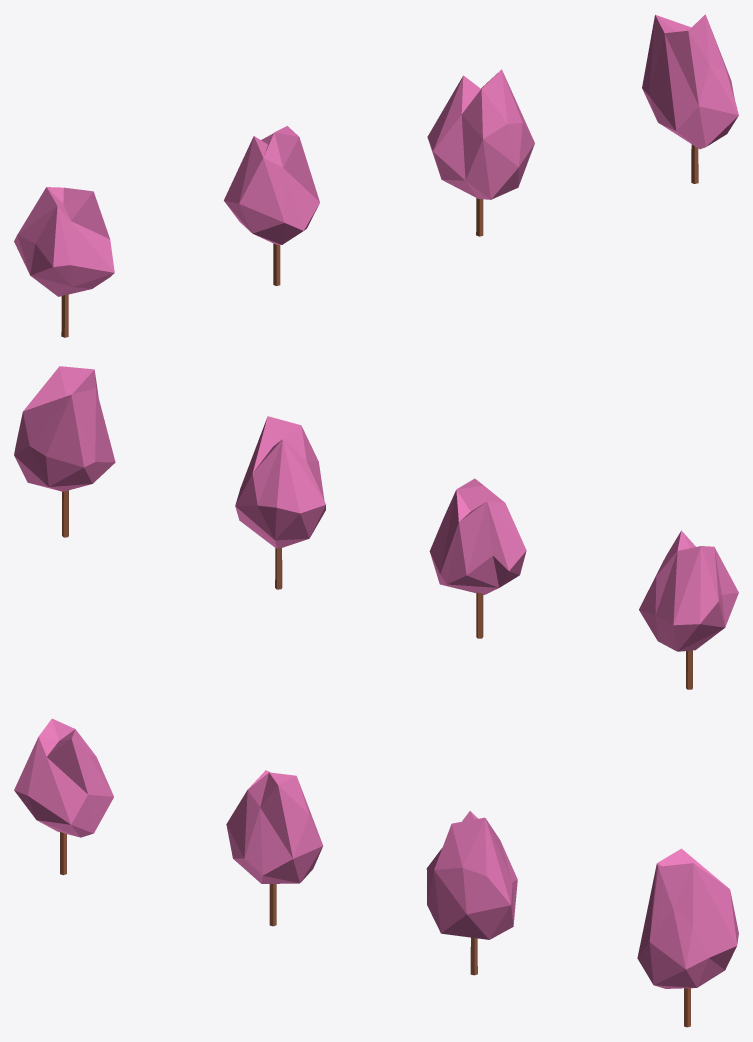
File: FlowerBox_Tulips.fbx
The picture shows the model from 3 angles, top to bottom: view 1: azimuth 30°, elevation 25°; view 2: azimuth 150°, elevation 25°; view 3: azimuth 330°, elevation 25°; orthographic projection.
Visible parts, largest first — view 1: Tulip_B_geo, Tulip_A_geo, Tulip_D_geo, Tulip_C_geo; view 2: Tulip_A_geo, Tulip_B_geo, Tulip_C_geo, Tulip_D_geo; view 3: Tulip_A_geo, Tulip_B_geo, Tulip_C_geo, Tulip_D_geo.
Boxes of the visible parts, bbox=[...] form: Tulip_B_geo: bbox=[427, 69, 534, 236]; Tulip_A_geo: bbox=[642, 14, 738, 183]; Tulip_D_geo: bbox=[14, 187, 114, 337]; Tulip_C_geo: bbox=[224, 126, 319, 285]; Tulip_A_geo: bbox=[14, 366, 115, 537]; Tulip_B_geo: bbox=[235, 416, 325, 589]; Tulip_C_geo: bbox=[429, 478, 526, 638]; Tulip_D_geo: bbox=[639, 530, 738, 689]; Tulip_A_geo: bbox=[637, 848, 738, 1027]; Tulip_B_geo: bbox=[426, 811, 517, 975]; Tulip_C_geo: bbox=[226, 770, 323, 926]; Tulip_D_geo: bbox=[14, 718, 113, 875].
Bounding box in the file's own units: 213 × 48.13 × 25.67.
